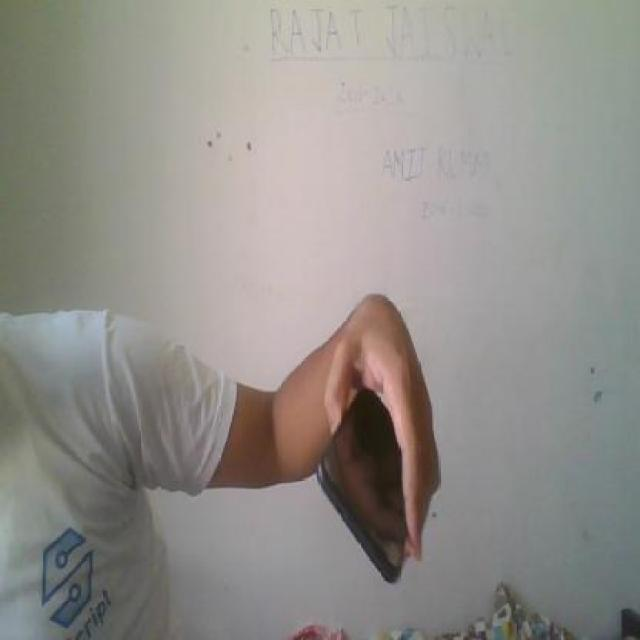Phone: (311, 384, 440, 586)
